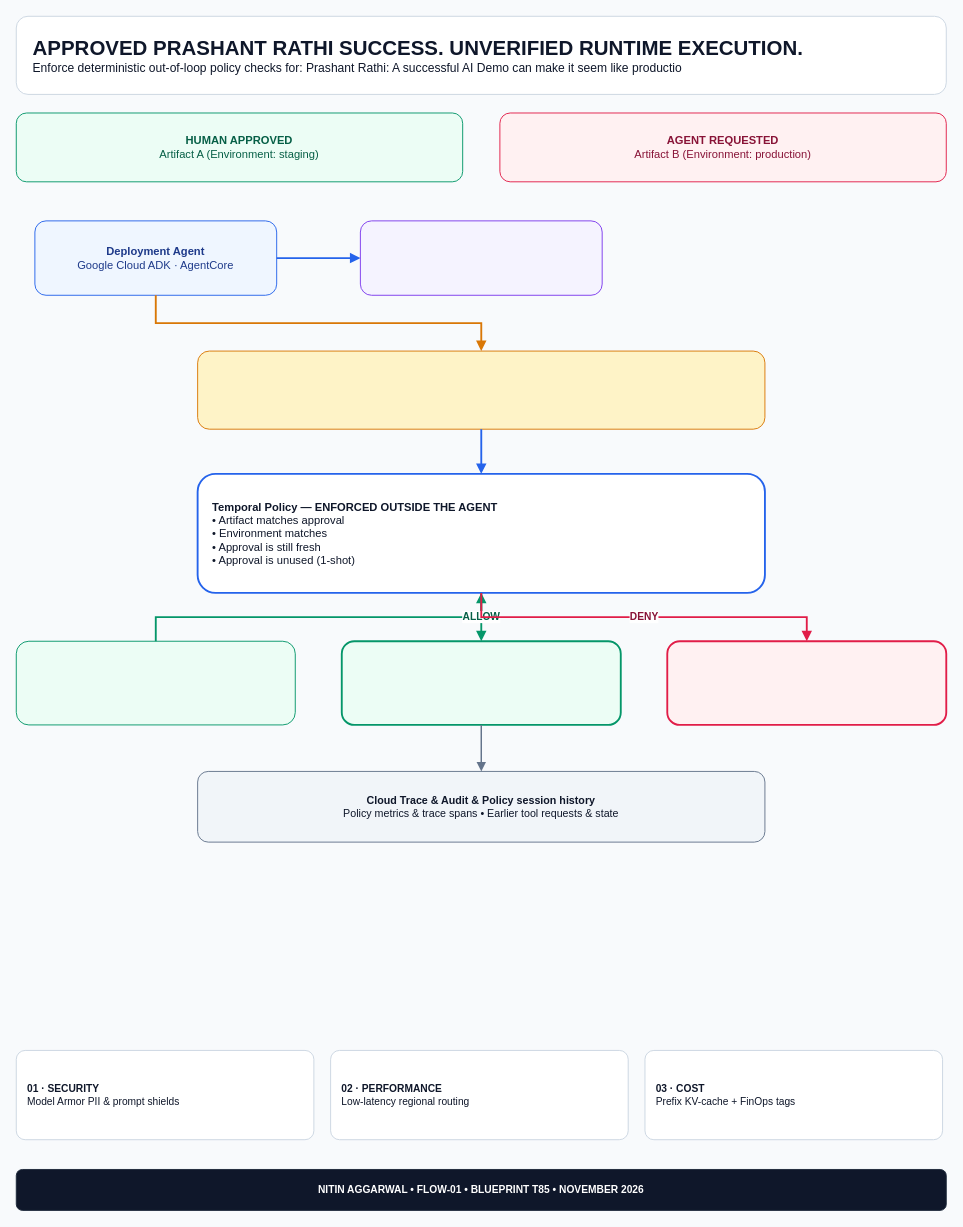
This 963x1227 diagram has some shape labels left out. Here are the shapes that lost their labels. From the top down, the centre of each, then its label:
the point at 480,257: Frontier LLM Vertex AI Gemini · Bedrock
the point at 481,389: Policy Gateway (ENFORCEMENT POINT) ADK BeforeToolCallback · Gateway
the point at 155,682: Authenticated human approver Approval service (Trusted approval lookup)
the point at 480,682: ALLOW → Deployment service Execute authorized deployment
the point at 806,682: DENY → Action blocked No deployment call is made
